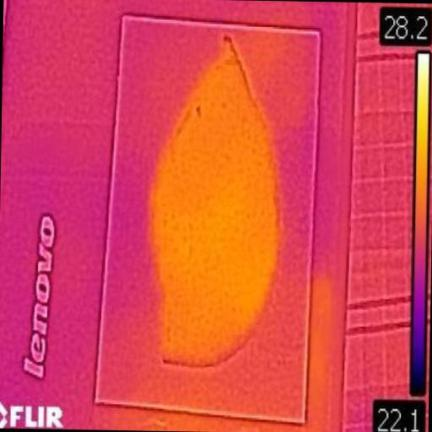mango: (150, 37, 278, 367)
